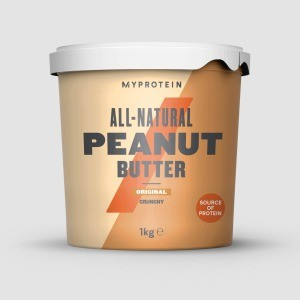peanut butter_brain food: (64, 96, 224, 216)
